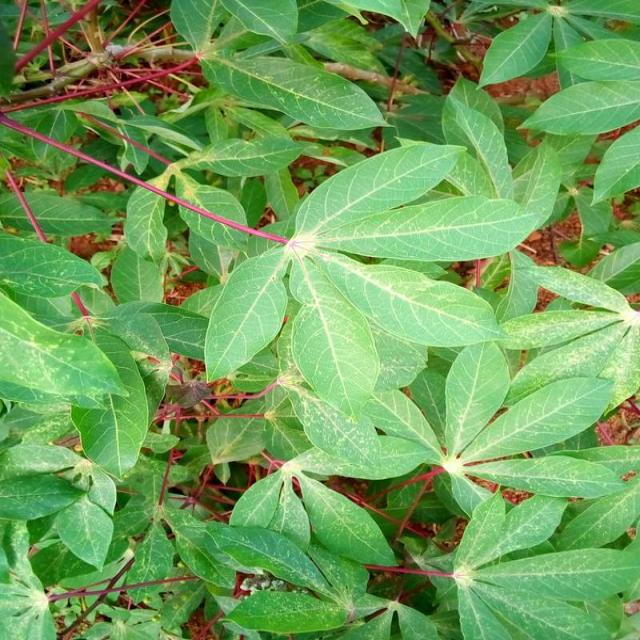cassava leaf: (0, 1, 638, 638), (189, 138, 541, 421)
